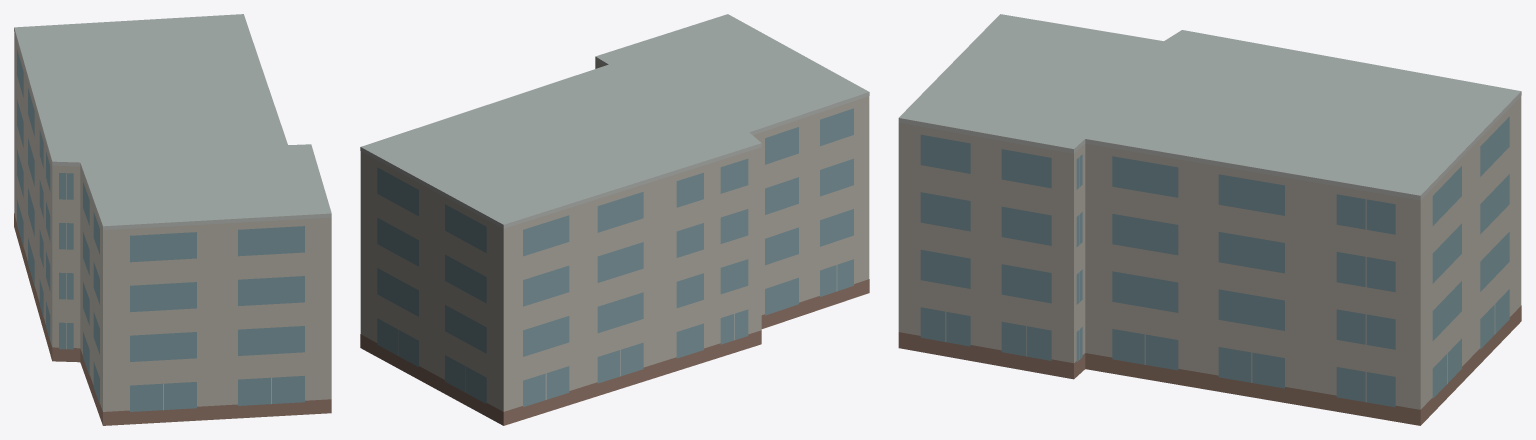
Rendered from survey-upis-32603947.glb.
3 views of the same model, side by side, from view 1: azimuth 30°, elevation 25°; view 2: azimuth 150°, elevation 25°; view 3: azimuth 270°, elevation 25° (orthographic). The views are drawn at different scales.
Visible parts, largest first — view 1: survey-upis-32603947.tmp; view 2: survey-upis-32603947.tmp; view 3: survey-upis-32603947.tmp.
Boxes of the visible parts, x1,y1,x2,y2 form: survey-upis-32603947.tmp: (14,14,331,425); survey-upis-32603947.tmp: (360,14,869,425); survey-upis-32603947.tmp: (898,14,1521,425).
Bounding box in the file's own units: 20.67 × 12.2 × 29.93.
